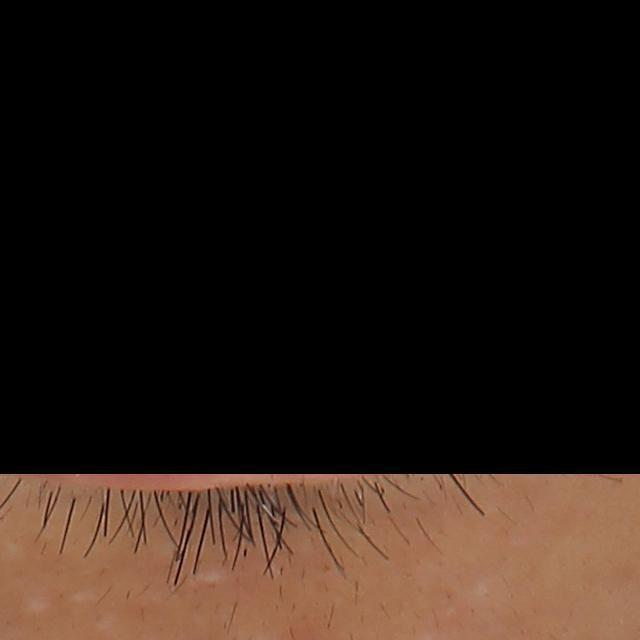hypertrophic_scar: (186, 562, 241, 588), (15, 592, 58, 621), (64, 588, 103, 607), (87, 613, 121, 633), (2, 538, 28, 557)
